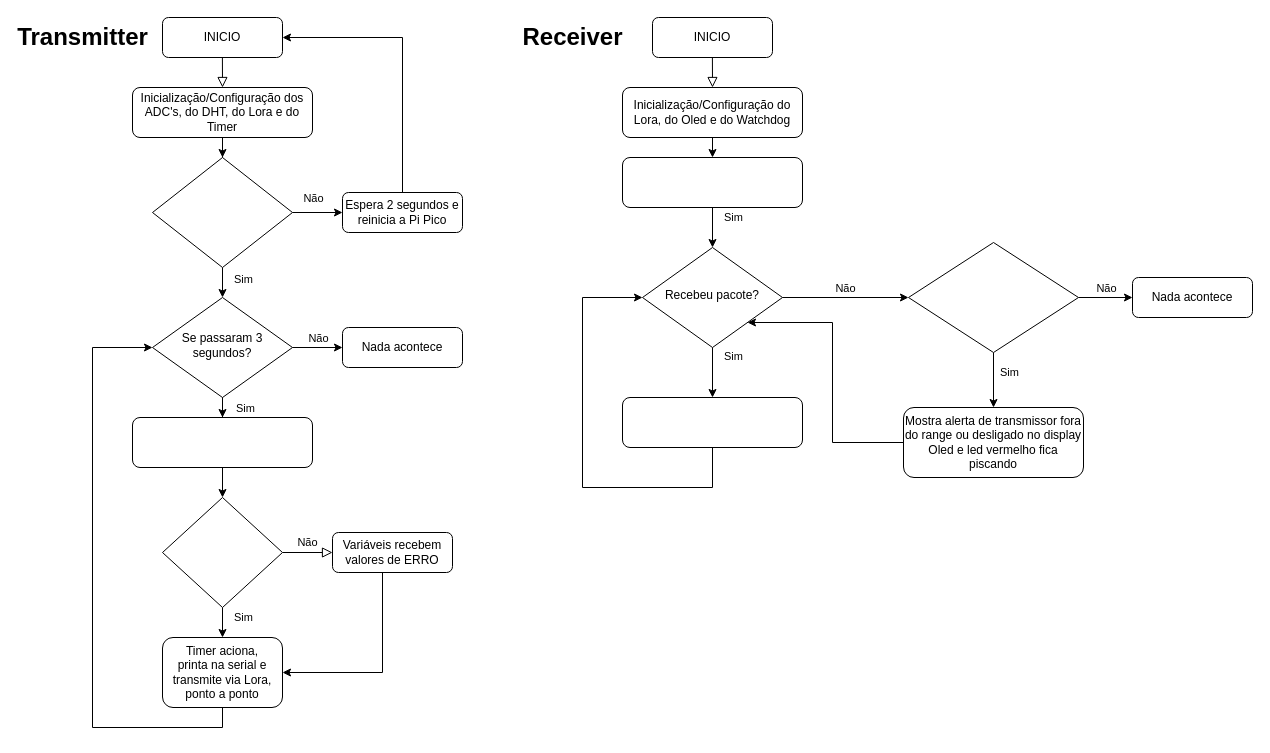
Image size: 1270x753. Some labels were removed from this diagram. Here are the shapes that lost their labels. From the top down, the centre of each, then its label:
At pixel 712 182: "Verifica se recebeu algum pacote via Lora".
At pixel 222 212: "Sensores e Módulos foram iniciados corretamente?".
At pixel 993 297: "Se passaram mais de 10 segundos sem receber?".
At pixel 222 442: "Lê status de chuva, umidade do solo e temperatura".
At pixel 712 422: "Mostra os dados dos sensores no display Oled e led azul pisca.".
At pixel 222 552: "Dados foram lidos corretamente?".
